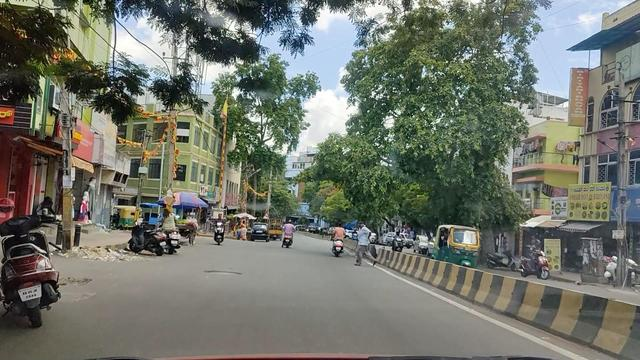LMV: (9, 210, 58, 320)
